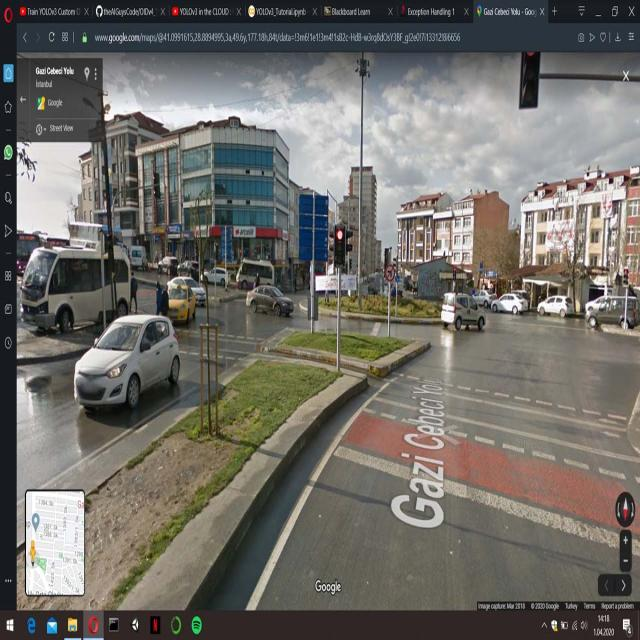kirmizi: (336, 226, 344, 266)
soladonulmez: (386, 264, 394, 282)
